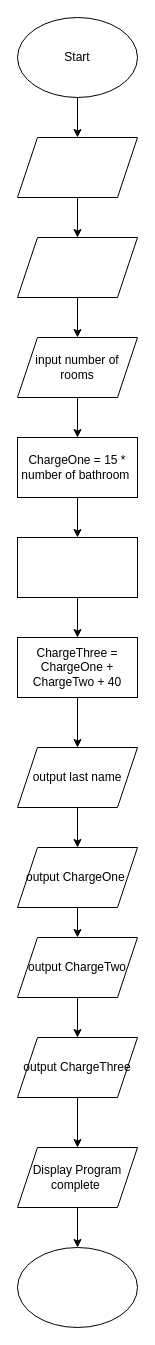
Image size: 155x1345. Some labels were removed from this diagram. Each missing label, with the centre of its shape:
"ChagreTwo = 10 * number of bedroom" goes at [77,567].
"input last name" goes at [77,167].
"input number of bathrooms" goes at [77,267].
"Stop" goes at [77,1287].
